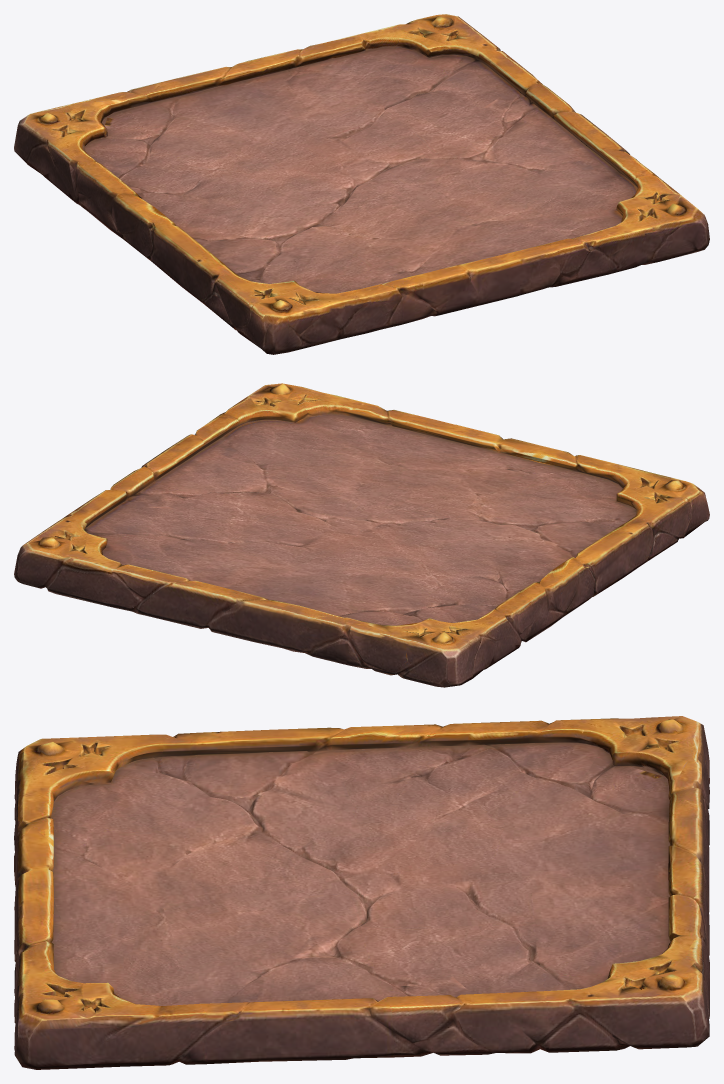
File: cowboy-tile.glb
The picture shows the model from 3 angles, top to bottom: view 1: azimuth 30°, elevation 25°; view 2: azimuth 150°, elevation 25°; view 3: azimuth 270°, elevation 25°; orthographic projection. The views are drawn at different scales.
Visible parts, largest first — view 1: tripo_node_25584024-b699-44e2-892b-e544fa7dcc24; view 2: tripo_node_25584024-b699-44e2-892b-e544fa7dcc24; view 3: tripo_node_25584024-b699-44e2-892b-e544fa7dcc24.
Part boxes in pixels (x1,y1,x2,y2): tripo_node_25584024-b699-44e2-892b-e544fa7dcc24: (14,14,709,354); tripo_node_25584024-b699-44e2-892b-e544fa7dcc24: (14,383,709,687); tripo_node_25584024-b699-44e2-892b-e544fa7dcc24: (14,716,709,1069).
Bounding box in the file's own units: 0.9713 × 0.1228 × 0.98.
Materials: 1 (1 with a texture image).
